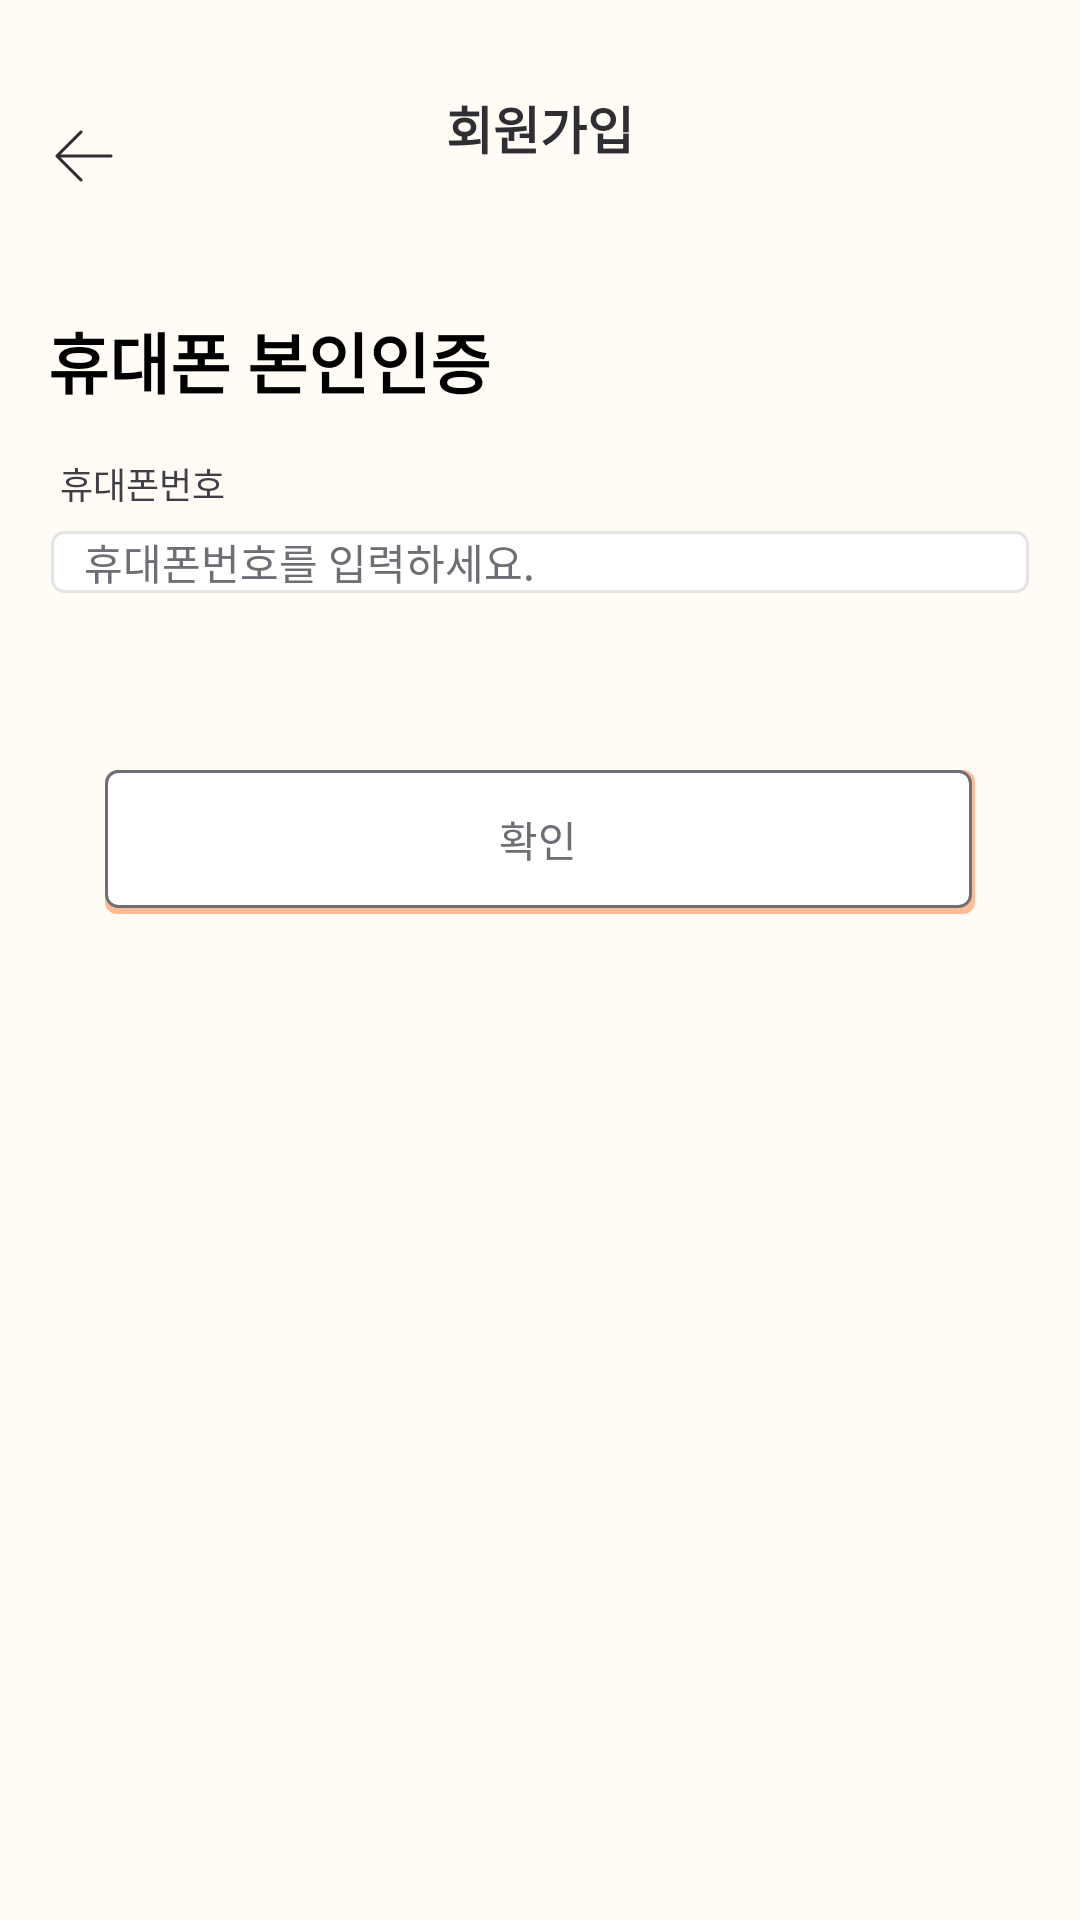

Icon bounding boxes for this 1080 x 1920 phone screenshot, format (x1, y1, x2, y2):
back: (55, 130, 113, 182)
